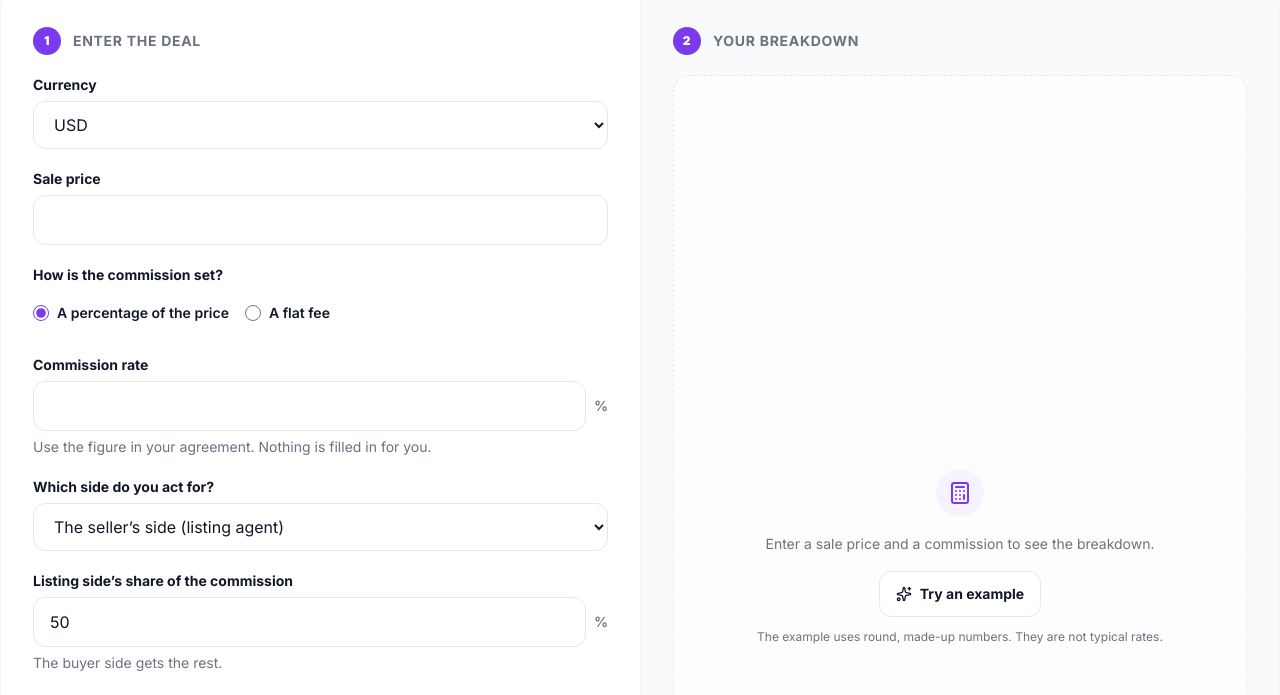
Test: CommissionCalculator › clears every field
This screenshot has width=1280, height=695.
Type "1000000" into the field labelled "Sale price" at x=320, y=220, box [33,195,608,245]
(page scrolled)
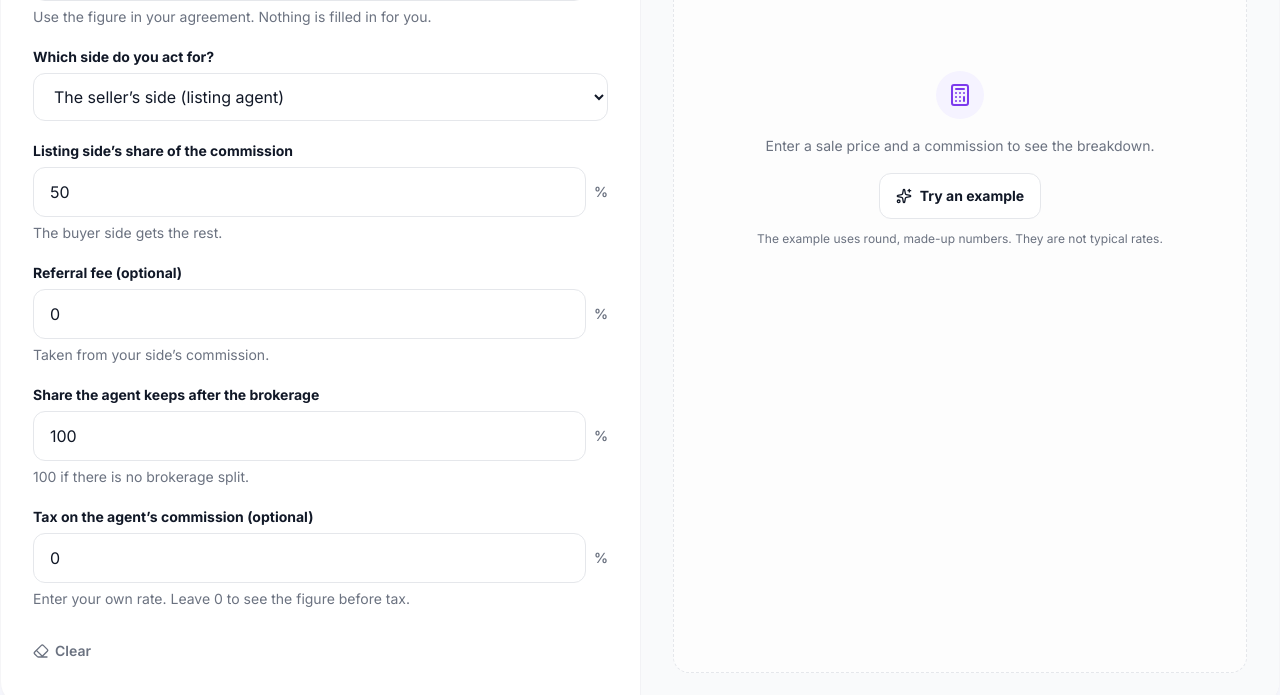
Click the button "Clear" at x=62, y=651, box [33,629,91,673]
(page scrolled)
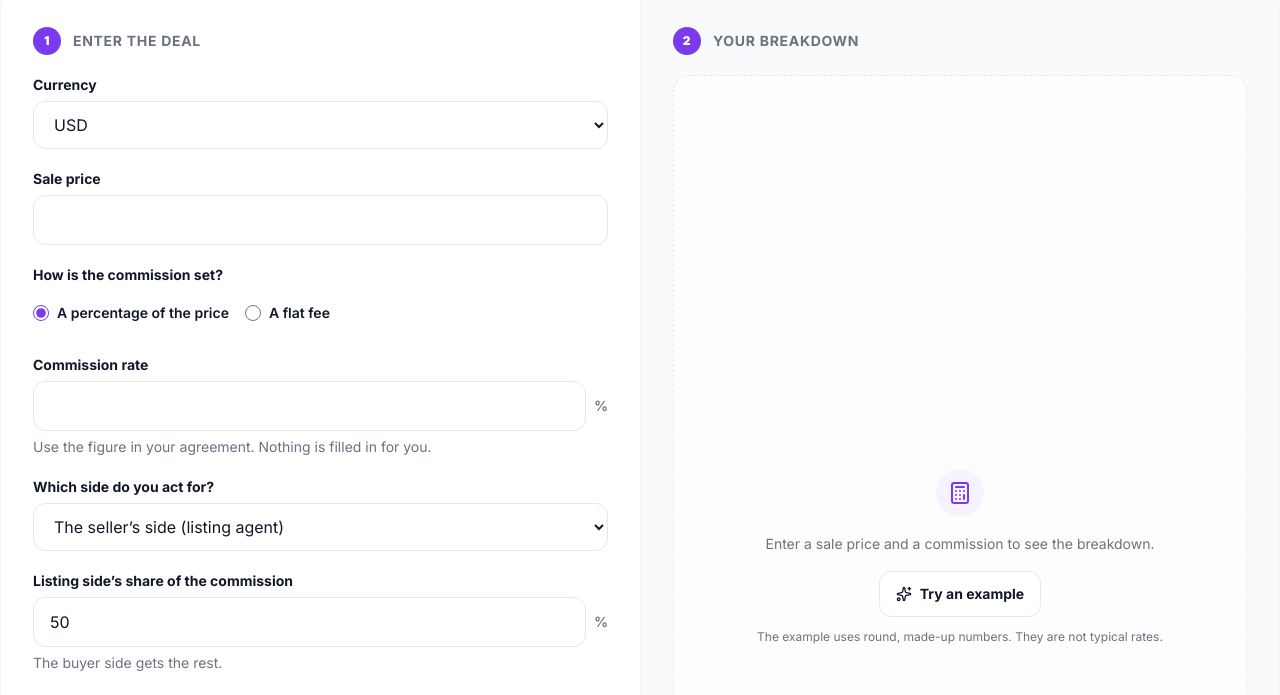
Expected: the field labelled "Sale price" is empty, [33,195,608,245]
